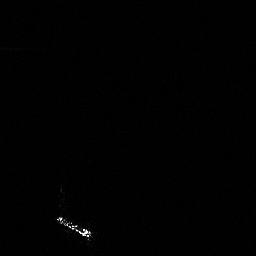ship: (53, 213, 94, 239)
